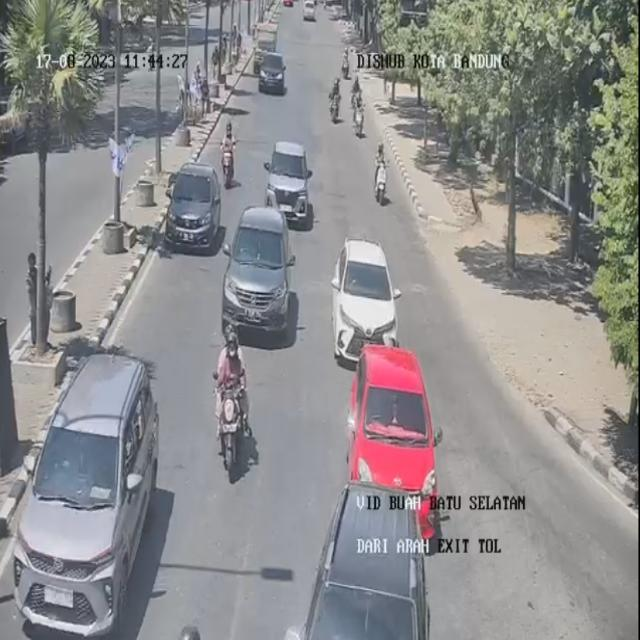cars: (18, 349, 157, 635), (320, 479, 425, 640), (356, 342, 432, 527), (224, 199, 300, 329), (338, 231, 394, 364), (172, 154, 218, 247), (272, 136, 307, 216)
motorcycle: (217, 321, 250, 459), (217, 116, 242, 193), (371, 138, 390, 210), (324, 74, 346, 135), (349, 95, 366, 139), (340, 49, 357, 80), (350, 76, 367, 107)
truck: (254, 53, 291, 96), (256, 21, 280, 66)
